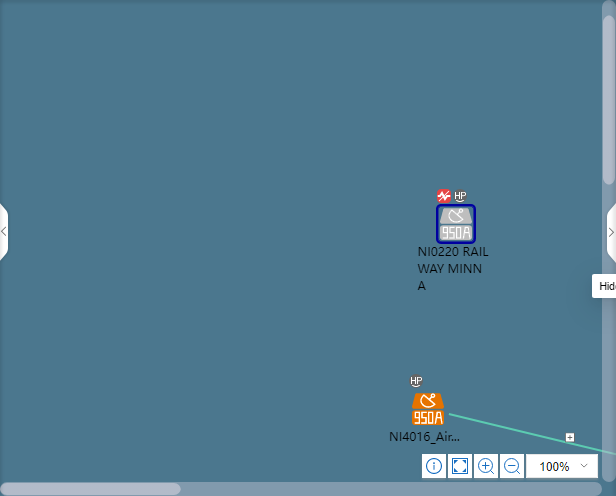Link_Blue: (447, 412, 616, 456)
RTN_Gray: (438, 207, 472, 240)
RTN_Orange: (412, 393, 443, 425)
